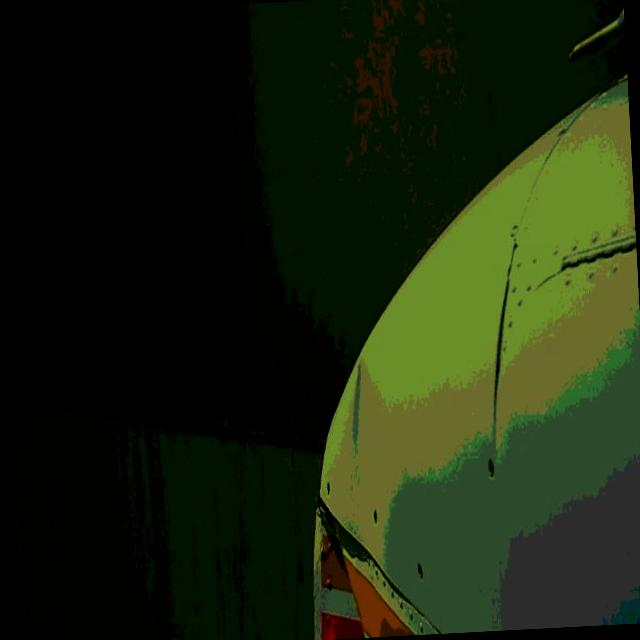dent: (337, 344, 386, 492)
